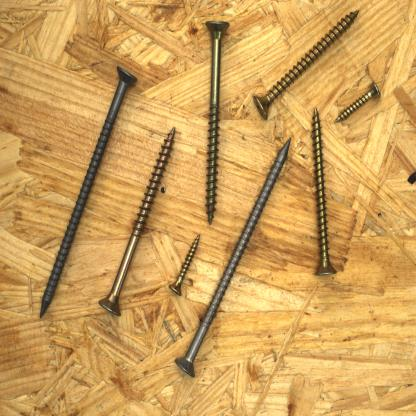screw: (172, 132, 295, 380), (36, 62, 140, 322), (97, 124, 179, 318), (251, 5, 361, 123), (203, 18, 233, 228), (308, 105, 340, 280), (331, 76, 385, 126), (166, 230, 202, 298)
